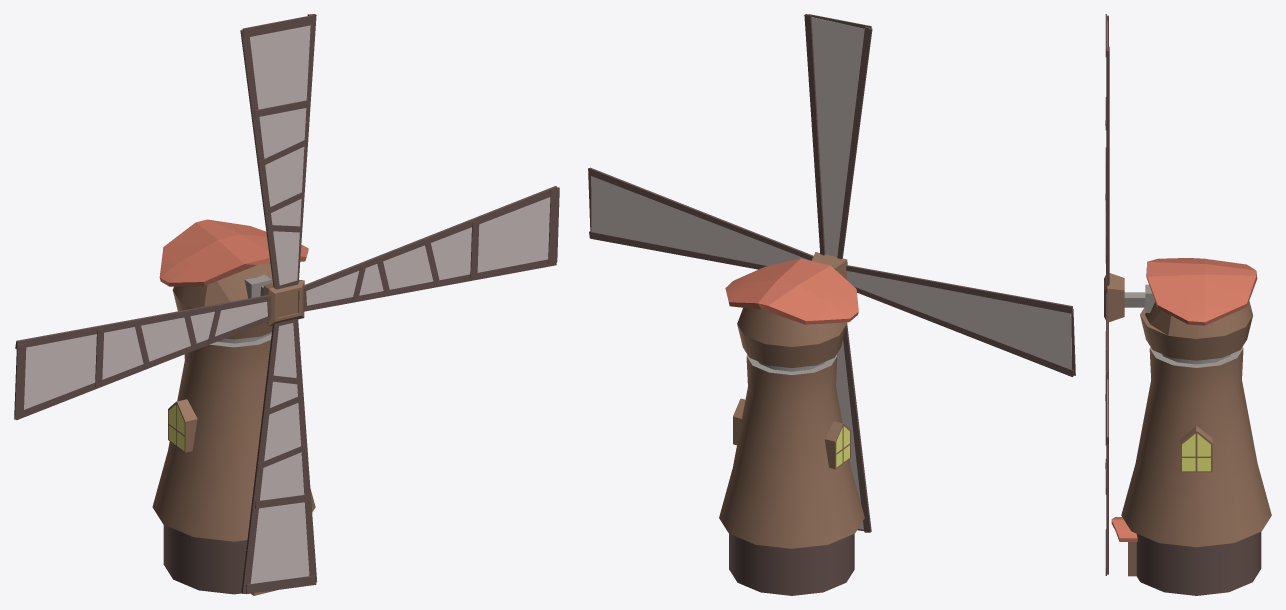
File: mesh_Dutch_Windmill.fbx
The picture shows the model from 3 angles, left to right: view 1: azimuth 30°, elevation 25°; view 2: azimuth 150°, elevation 25°; view 3: azimuth 270°, elevation 25°; orthographic projection. The views are drawn at different scales.
Visible parts, largest first — view 1: Dutch_Windmill, Dutch_BAse; view 2: Dutch_BAse, Dutch_Windmill; view 3: Dutch_BAse, Dutch_Windmill.
Boxes of the visible parts, box(x1,y1,x2,y2) form: Dutch_Windmill: box(14, 14, 559, 594); Dutch_BAse: box(152, 219, 315, 595); Dutch_BAse: box(719, 258, 864, 595); Dutch_Windmill: box(588, 14, 1075, 532); Dutch_BAse: box(1111, 258, 1271, 595); Dutch_Windmill: box(1104, 14, 1145, 575).
Size of the model in its own units: 34.22 by 34.89 by 9.89.
